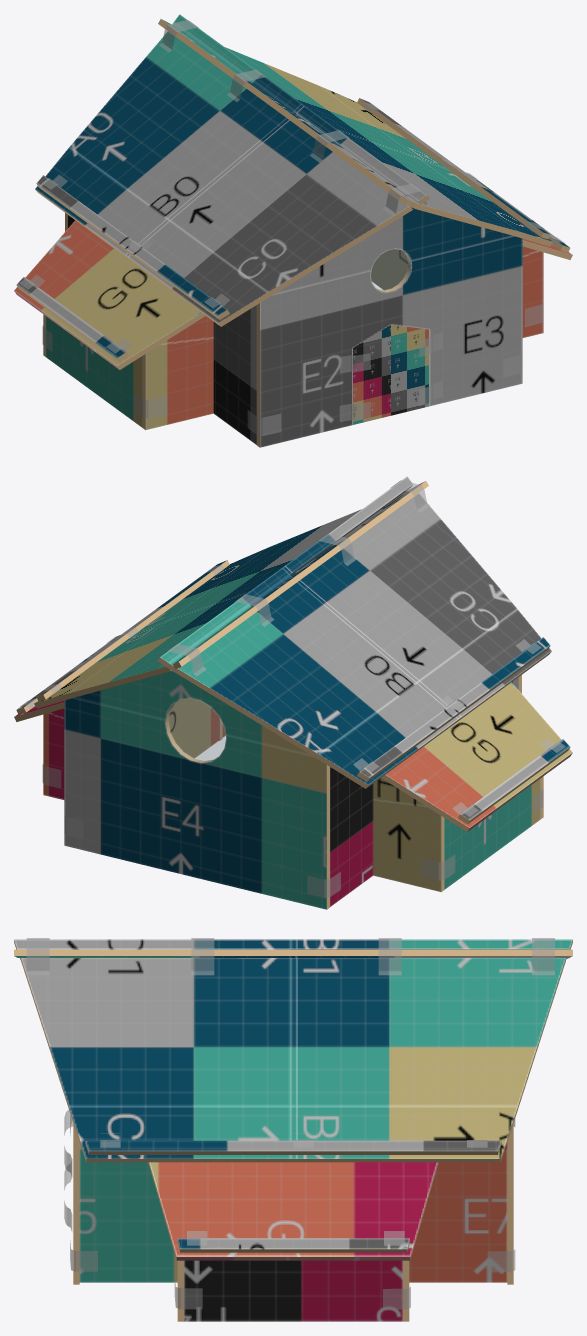
The model's file is KeepModel.fbx.
The picture shows the model from 3 angles, top to bottom: view 1: azimuth 30°, elevation 25°; view 2: azimuth 150°, elevation 25°; view 3: azimuth 270°, elevation 25°; orthographic projection. The views are drawn at different scales.
Visible parts, largest first — view 1: KeepModel, KeepDoorR, KeepDoorL; view 2: KeepModel; view 3: KeepModel.
Boxes of the visible parts, x1,y1,x2,y2 form: KeepModel: (14,14,572,447); KeepDoorR: (391,324,428,415); KeepDoorL: (353,325,390,424); KeepModel: (14,476,572,909); KeepModel: (14,938,572,1321).
Bounding box in the file's own units: 904 × 450 × 850.
